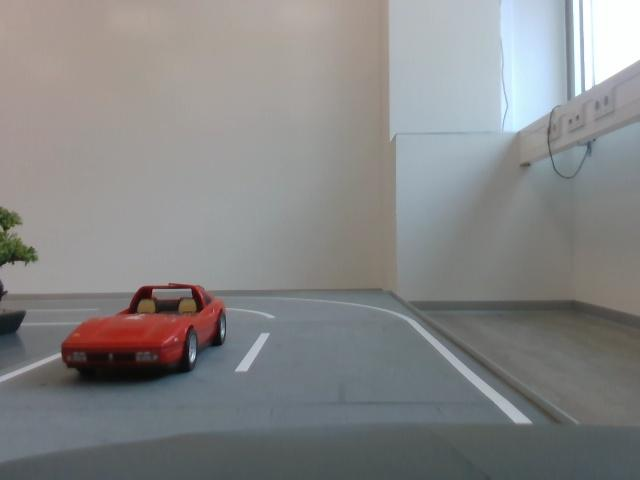car: (61, 282, 234, 393)
potted plant: (2, 202, 37, 338)
